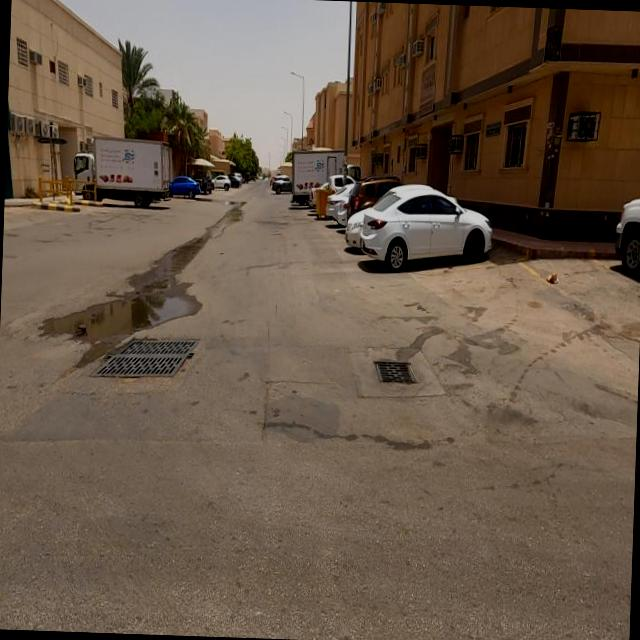debris: (514, 243, 578, 322)
